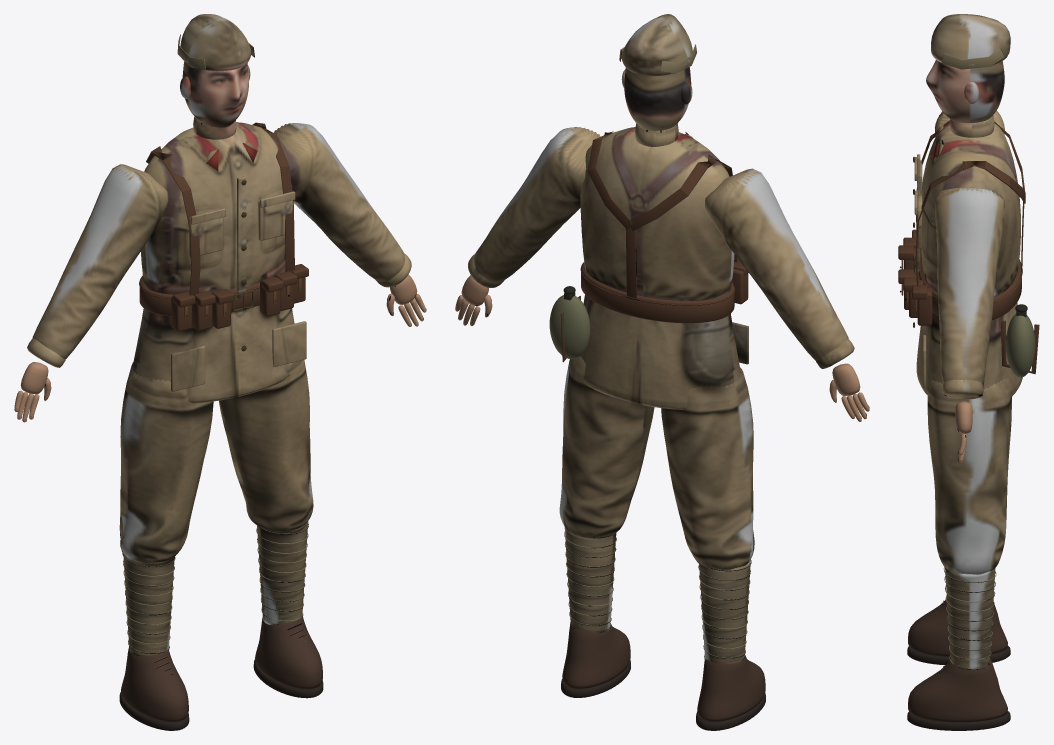
The model's file is turkish_infantry_v01.glb.
The picture shows the model from 3 angles, left to right: view 1: azimuth 30°, elevation 25°; view 2: azimuth 150°, elevation 25°; view 3: azimuth 270°, elevation 25°; orthographic projection.
Visible parts, largest first — view 1: TUR_1939_Infantry_Textured; view 2: TUR_1939_Infantry_Textured; view 3: TUR_1939_Infantry_Textured.
Boxes of the visible parts, box(x1,y1,x2,y2) form: TUR_1939_Infantry_Textured: box(14, 14, 426, 730); TUR_1939_Infantry_Textured: box(455, 14, 869, 730); TUR_1939_Infantry_Textured: box(898, 14, 1039, 730).
Size of the model in its own units: 1.13 by 1.77 by 0.336.
1 material, 1 textured.
